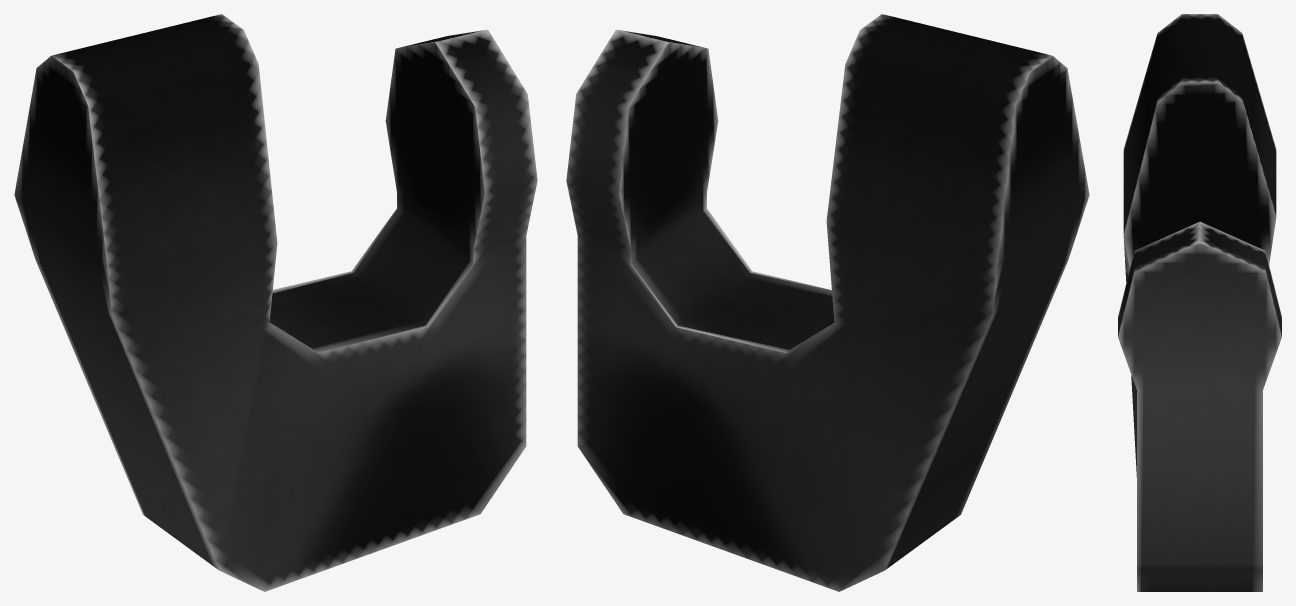
The model's file is mtorso.dae.
3 renders of one model, left to right at view 1: azimuth 30°, elevation 25°; view 2: azimuth 150°, elevation 25°; view 3: azimuth 270°, elevation 25°, orthographic. The views are drawn at different scales.
Visible parts, largest first — view 1: m_torso; view 2: m_torso; view 3: m_torso.
Boxes of the visible parts, left/top/right/bottom form: m_torso: left=14, top=14, right=537, bottom=591; m_torso: left=566, top=14, right=1089, bottom=591; m_torso: left=1118, top=14, right=1281, bottom=591.
Size of the model in its own units: 0.0837 by 0.0337 by 0.1012.
